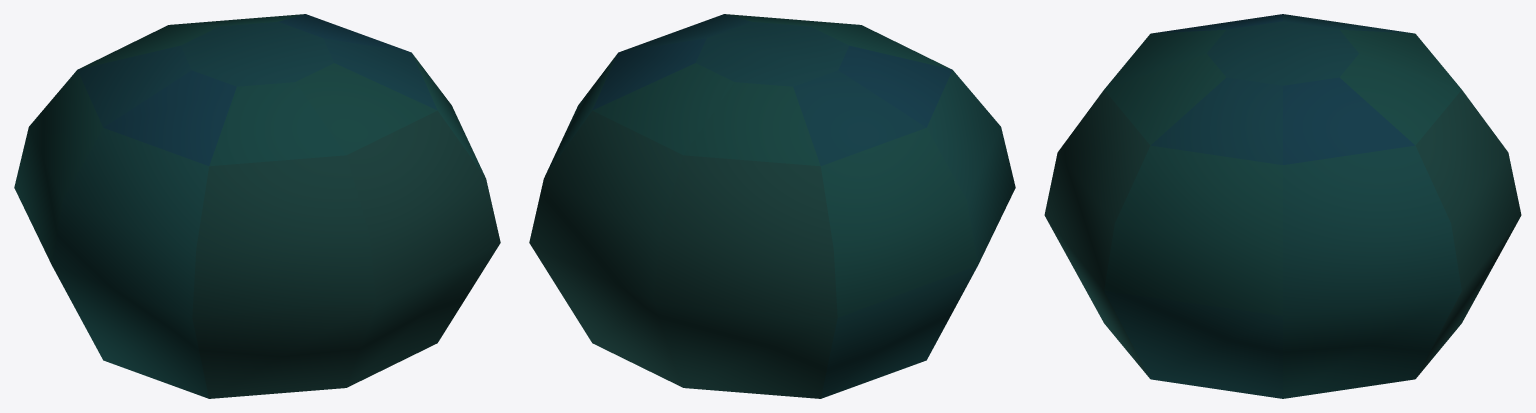
Rendered from s@slime_Respawn.fbx.
3 views of the same model, side by side, from view 1: azimuth 30°, elevation 25°; view 2: azimuth 150°, elevation 25°; view 3: azimuth 270°, elevation 25° (orthographic).
Parts seen in each view (by area): view 1: Mesh; view 2: Mesh; view 3: Mesh.
Boxes of the visible parts, box(x1,y1,x2,y2) form: Mesh: box(14, 14, 500, 398); Mesh: box(529, 14, 1015, 398); Mesh: box(1044, 14, 1521, 398).
Size of the model in its own units: 14 by 8.74 by 14.
